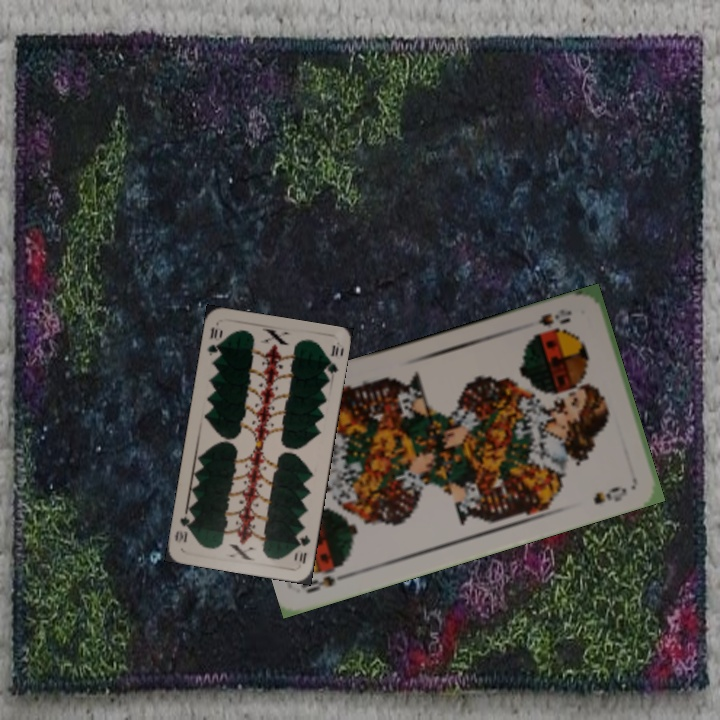G10: (204, 322, 225, 358), (292, 531, 313, 566)
SO: (298, 566, 358, 596), (529, 305, 574, 338)
